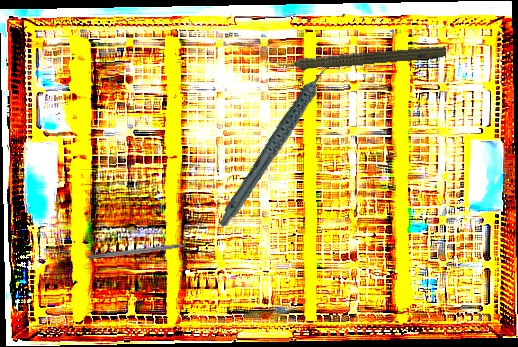Handpiece: (189, 57, 369, 230), (267, 39, 447, 76)
Hook Surgical: (88, 241, 199, 261)
